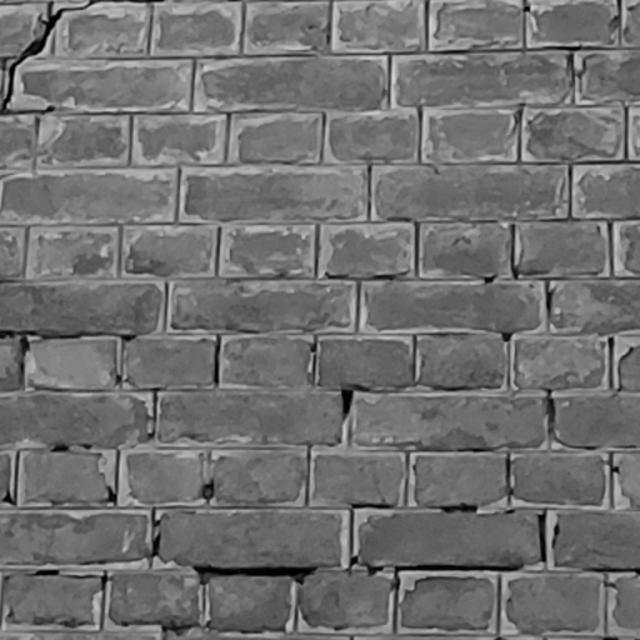crack: (2, 1, 98, 112)
